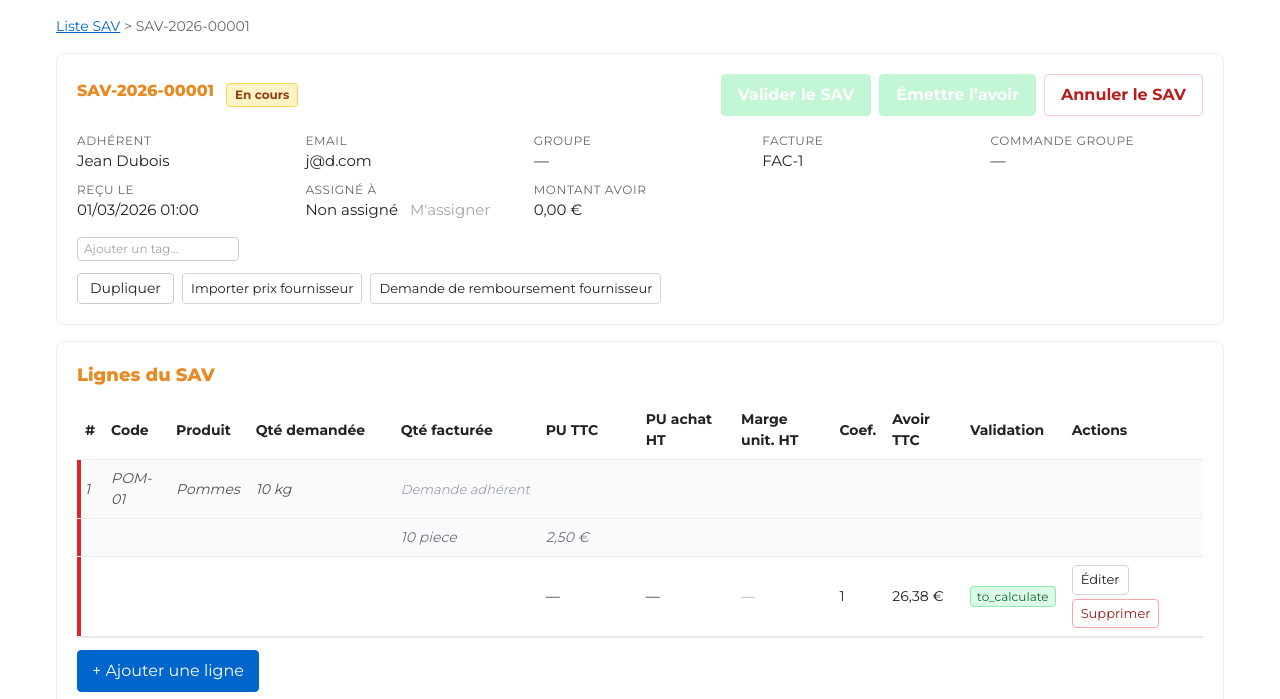
Scenario: SavDetailView — édition inline lignes (Story 3.6b) › TC-04 : ligne to_calculate en édition → champ « Poids unité (g) » visible
The width and height of the screenshot is (1280, 699).
Click the button with test id "edit-line-100" at coordinates (1100, 580), box [1072,565,1128,594]
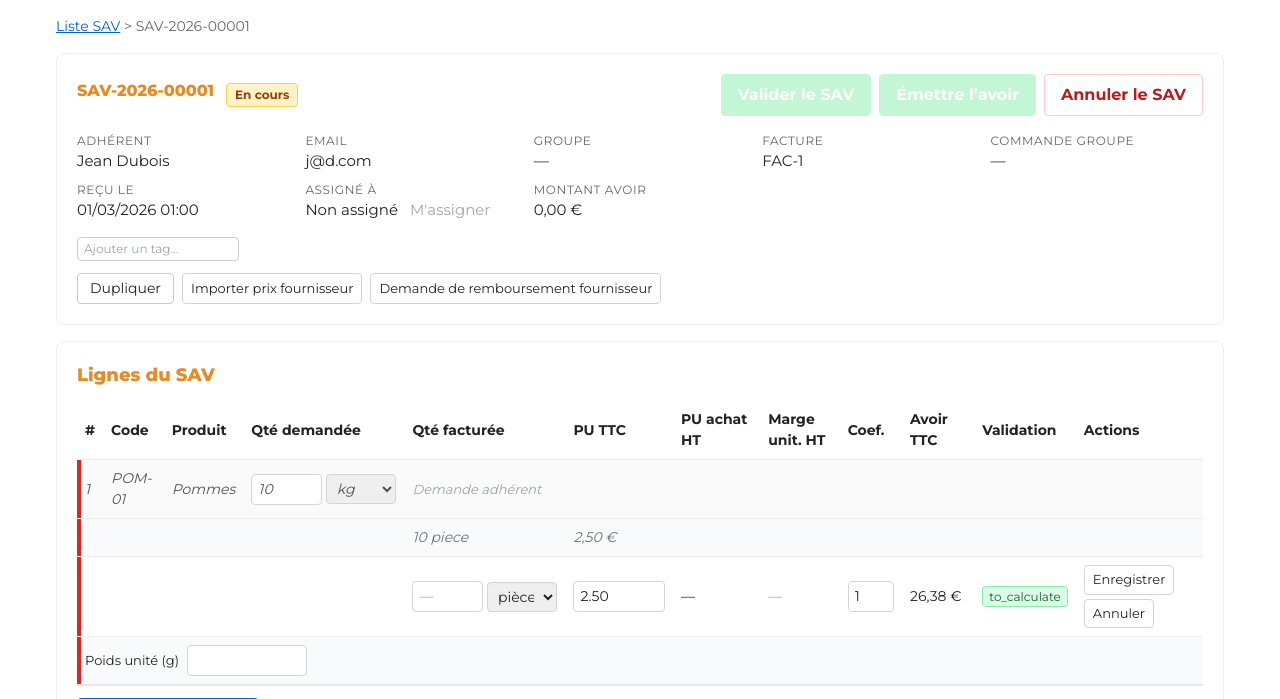
Check: the number field with test id "edit-piece-to-kg-weight-g" is shown, box [187,645,307,676]
